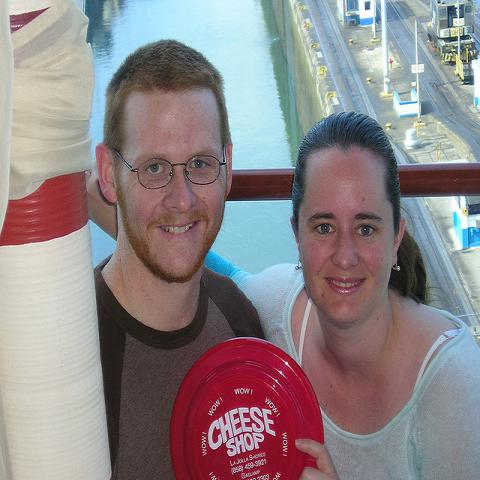truck: (425, 0, 479, 83)
